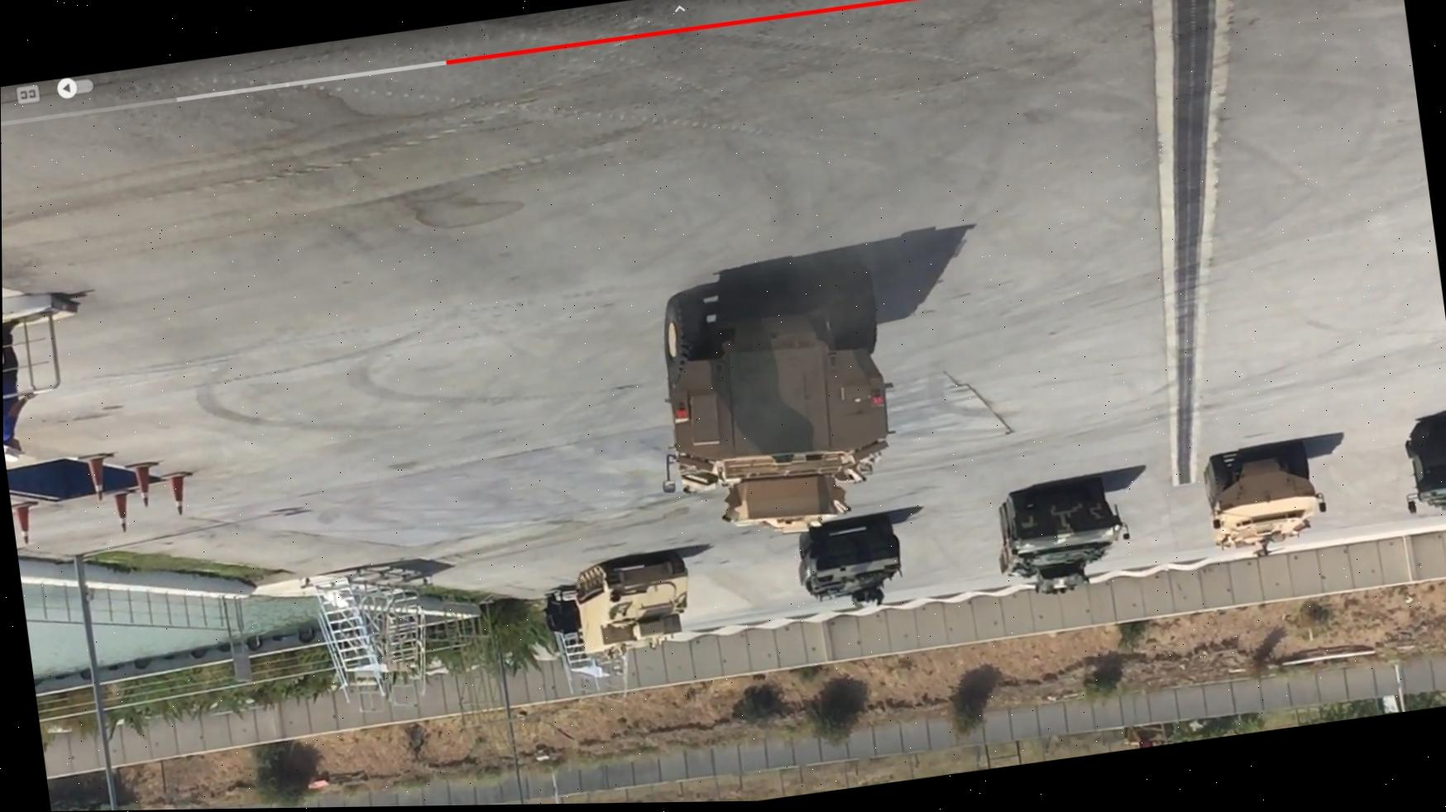armored_car: (643, 239, 927, 534), (988, 473, 1132, 596), (1200, 436, 1327, 556), (565, 547, 697, 660), (789, 510, 907, 613)
